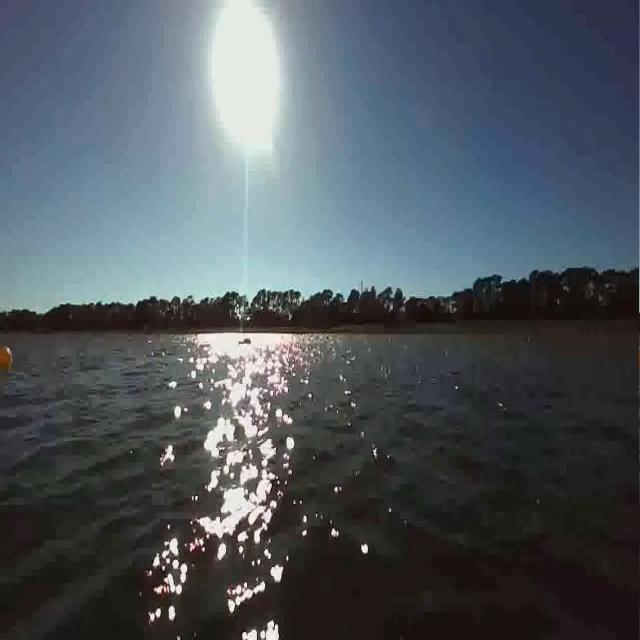yellow-buoy: (0, 344, 13, 374)
